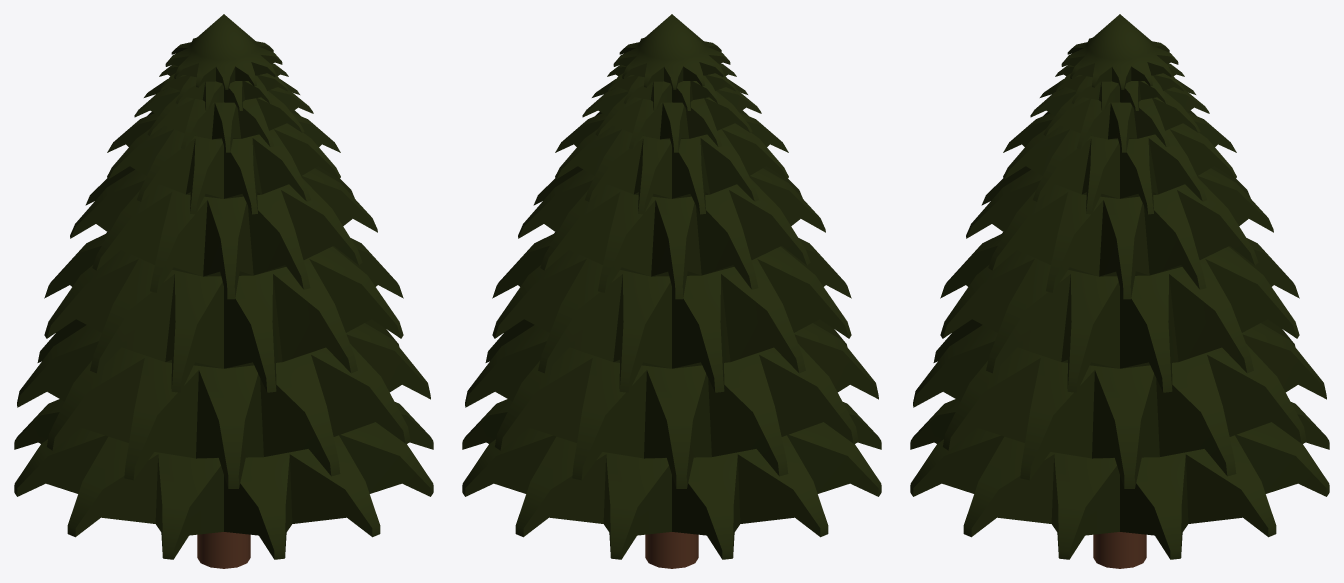
File: PineTreeLG_20210127.fbx
The picture shows the model from 3 angles, left to right: view 1: azimuth 30°, elevation 25°; view 2: azimuth 150°, elevation 25°; view 3: azimuth 270°, elevation 25°; orthographic projection.
Parts seen in each view (by area): view 1: Tree.002; view 2: Tree.002; view 3: Tree.002.
Boxes of the visible parts, <box> form: Tree.002: <box>14,14,433,568</box>; Tree.002: <box>462,14,881,568</box>; Tree.002: <box>910,14,1329,568</box>.
Size of the model in its own units: 1.65 by 2.36 by 1.65.
